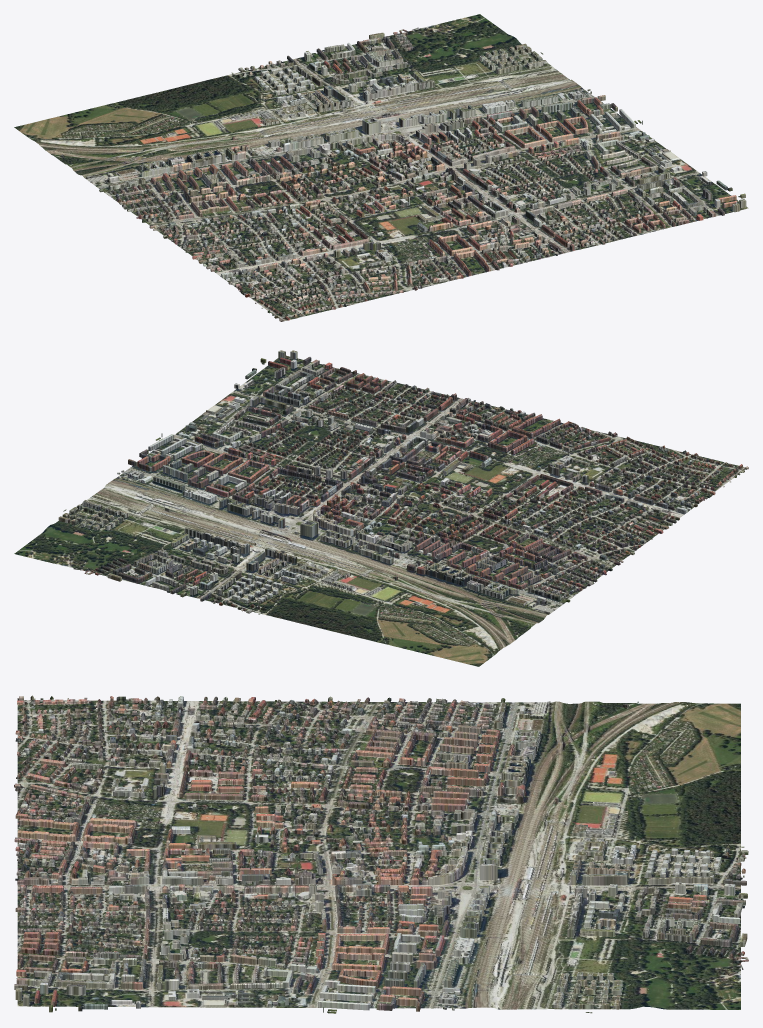
Rendered from asset.glb.
3 renders of one model, top to bottom at view 1: azimuth 30°, elevation 25°; view 2: azimuth 150°, elevation 25°; view 3: azimuth 270°, elevation 25°, orthographic. The views are drawn at different scales.
Visible parts, largest first — view 1: Laim_DGM10m, 1, 2; view 2: Laim_DGM10m, 1, 2; view 3: Laim_DGM10m, 1, 2.
Boxes of the visible parts, box(x1,y1,x2,y2) form: Laim_DGM10m: box(14, 14, 748, 321); 1: box(248, 26, 746, 264); 2: box(51, 67, 513, 321); Laim_DGM10m: box(14, 355, 745, 666); 1: box(58, 350, 513, 611); 2: box(243, 410, 748, 638); Laim_DGM10m: box(17, 700, 740, 1009); 1: box(14, 846, 748, 1013); 2: box(14, 695, 748, 860).
Size of the model in its own units: 2040 by 52.61 by 2021.
Materials: 3 (3 with a texture image).
